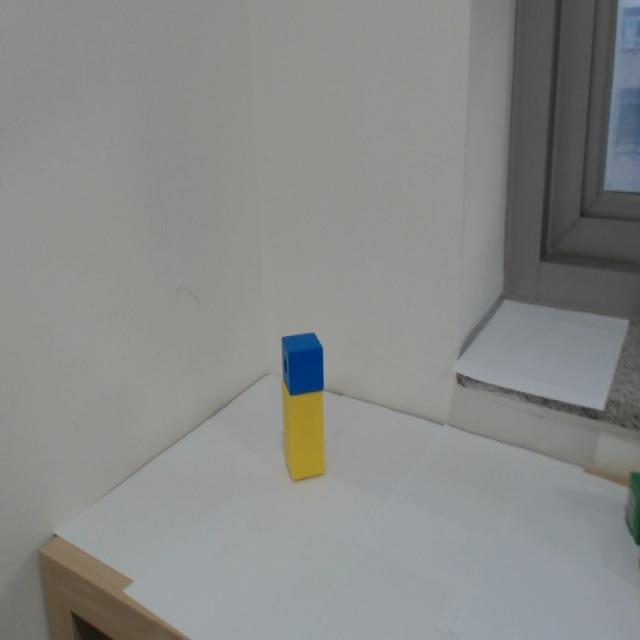cube: (281, 331, 324, 396)
